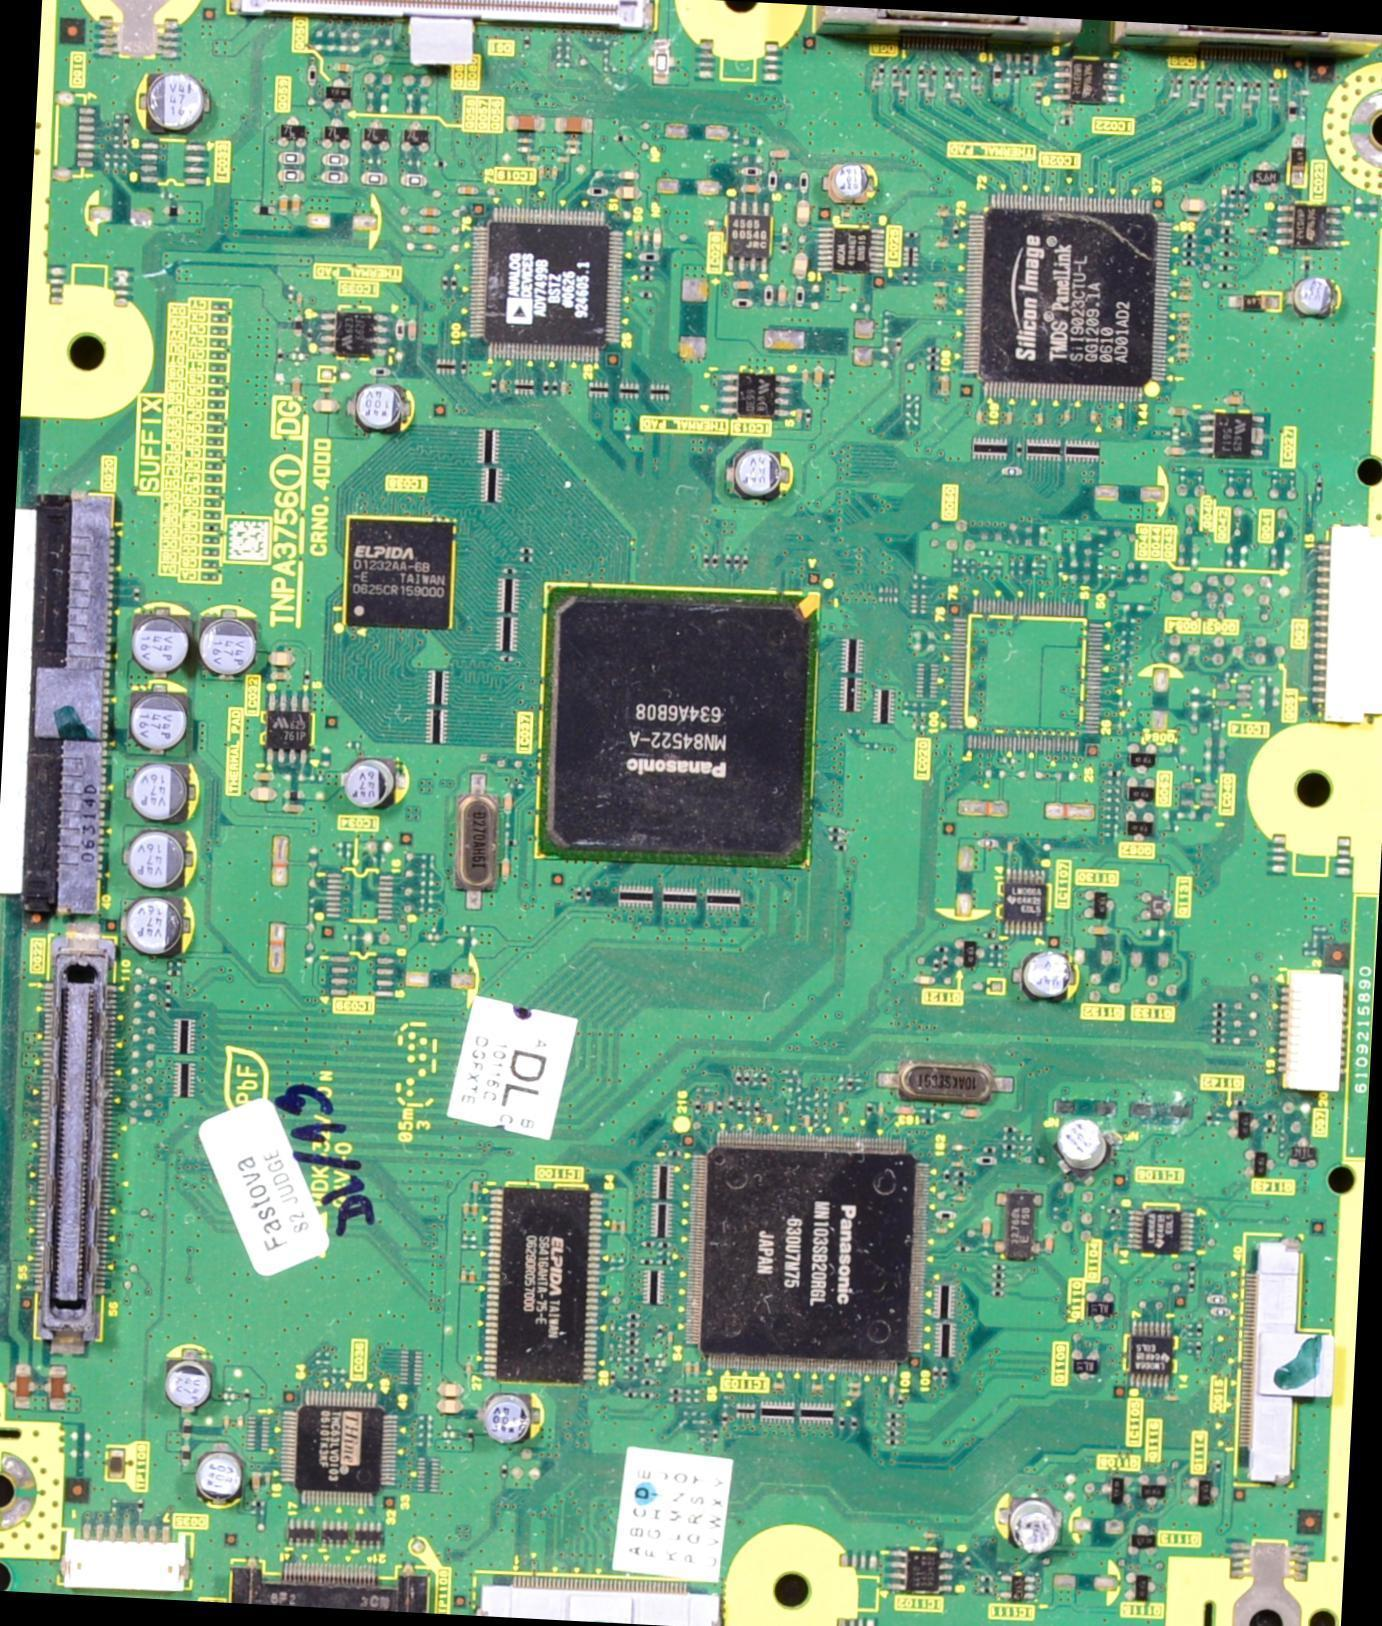Capacitor: (129, 680, 187, 756), (128, 609, 194, 675), (121, 891, 184, 960), (126, 821, 186, 891), (131, 761, 197, 819), (143, 73, 203, 133), (202, 610, 256, 673), (351, 381, 412, 434), (730, 446, 786, 503), (481, 1394, 536, 1450), (1020, 948, 1073, 1005), (1010, 1499, 1061, 1557), (343, 759, 390, 810), (167, 1359, 212, 1408), (196, 1454, 241, 1500), (826, 164, 869, 203), (1291, 278, 1334, 316), (505, 110, 548, 136), (551, 115, 594, 138), (248, 786, 282, 807), (435, 1381, 469, 1400), (792, 252, 811, 285), (793, 199, 813, 230), (436, 1397, 462, 1420), (1181, 198, 1209, 214), (611, 186, 641, 200), (775, 284, 788, 308), (731, 281, 762, 291)
IC: (526, 574, 824, 868), (672, 1131, 931, 1382), (959, 191, 1178, 411), (465, 207, 626, 366), (480, 1185, 605, 1389), (276, 1392, 399, 1510), (339, 516, 457, 630), (258, 692, 321, 770), (721, 369, 801, 425), (317, 309, 395, 364), (1050, 50, 1121, 108), (883, 1545, 958, 1599), (815, 225, 888, 279), (1126, 1321, 1179, 1393), (722, 199, 775, 263), (1275, 204, 1344, 253), (1125, 1208, 1198, 1254), (1195, 413, 1266, 460), (998, 869, 1047, 935), (995, 1572, 1038, 1607)
Resistor: (320, 152, 354, 172), (358, 169, 389, 188), (398, 172, 428, 190), (275, 149, 308, 165), (317, 170, 352, 184), (274, 167, 306, 182)
Transistor: (1122, 771, 1162, 812), (1079, 1287, 1120, 1326), (1077, 886, 1115, 927), (1137, 1473, 1174, 1514), (396, 120, 433, 159), (1241, 1144, 1277, 1184), (948, 938, 990, 972), (1135, 889, 1172, 927), (320, 75, 355, 115), (1121, 809, 1160, 844), (1122, 1570, 1160, 1605), (1186, 1472, 1219, 1512), (1100, 1473, 1134, 1511), (320, 118, 356, 152), (1288, 1134, 1319, 1173), (1229, 1106, 1256, 1150), (1067, 1346, 1100, 1381), (1127, 1521, 1158, 1558), (359, 121, 393, 154), (1119, 742, 1157, 771), (277, 117, 310, 149)
